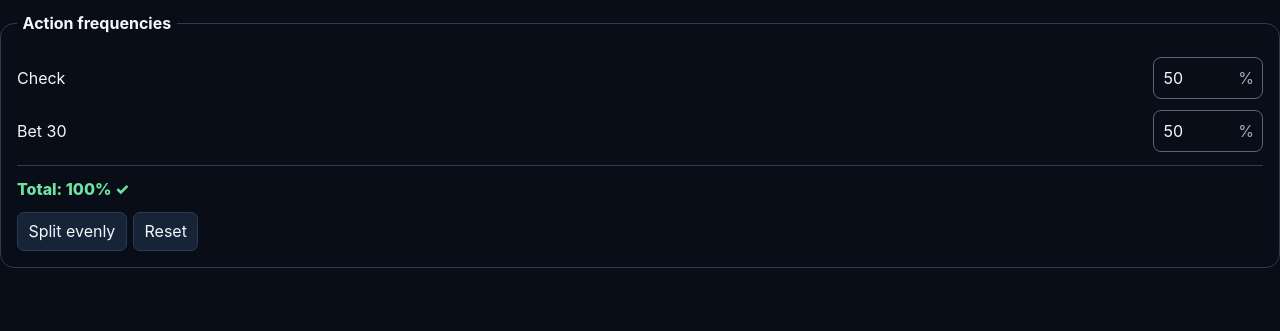
Test: ActionAllocator › preserves intermediate decimal typing and commits an empty field as zero
The image size is (1280, 331).
Replace the text in the field named "Check percentage" with "12.": x=1196, y=78 [1154,58,1238,98]
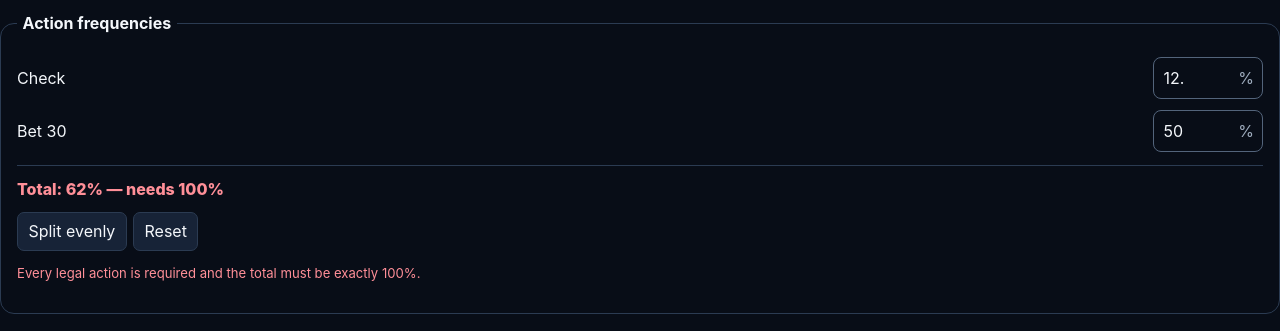
Clear the field named "Check percentage": x=1196, y=78 [1154,58,1238,98]
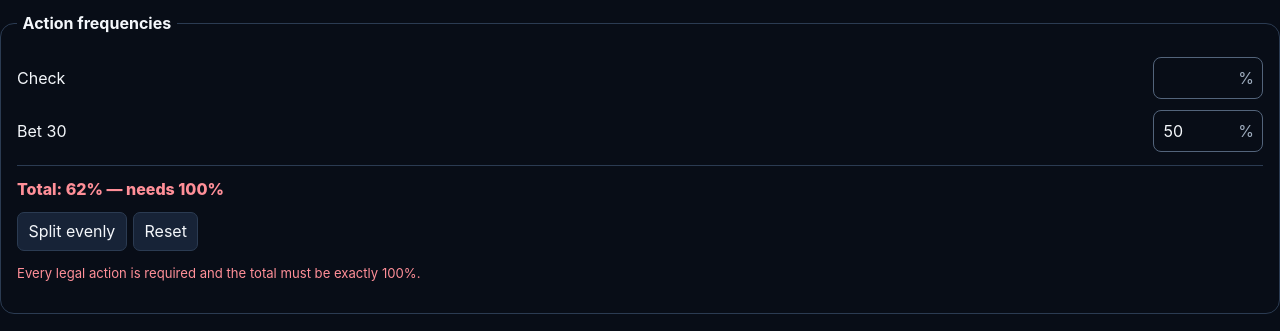
Leave the field named "Check percentage", box [1154,58,1238,98]
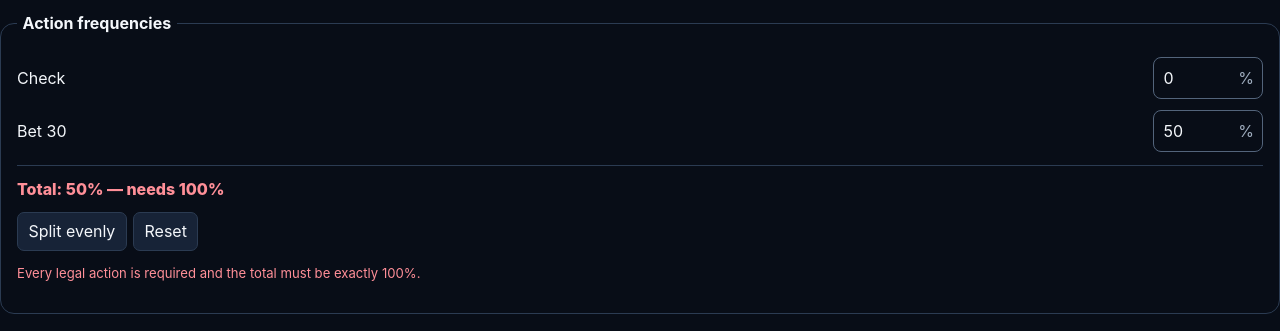
Expected: the field named "Check percentage" holds "0", [1154,58,1238,98]
Expected: the message shows "50%", [17,165,1263,201]
